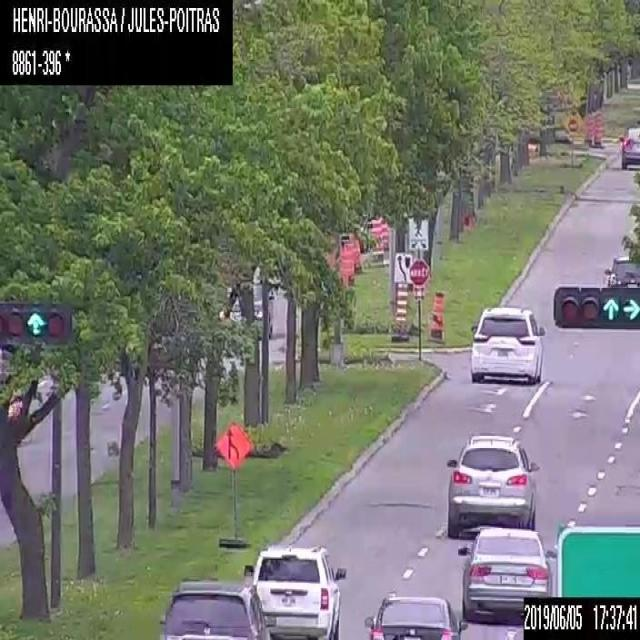construction: (212, 422, 251, 549), (335, 238, 356, 291), (428, 288, 444, 341), (373, 215, 387, 261), (593, 110, 602, 147), (584, 112, 592, 147)
vehicle: (454, 525, 558, 623), (446, 434, 539, 536), (242, 547, 346, 638), (156, 578, 276, 639), (468, 300, 546, 385), (362, 592, 464, 638), (222, 278, 274, 336), (602, 251, 639, 288), (618, 124, 639, 168), (276, 634, 304, 638), (319, 634, 326, 638)
